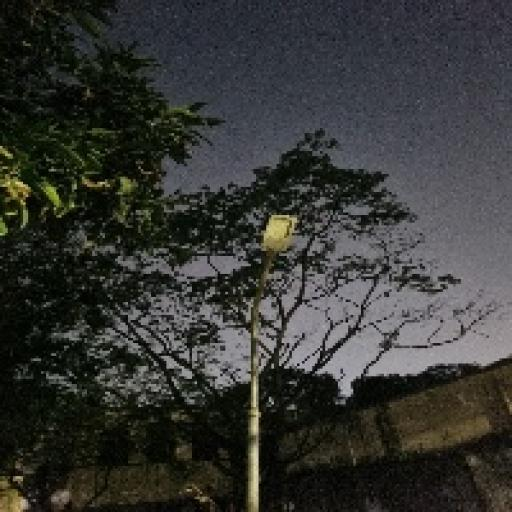Not Working: (242, 205, 308, 269)
